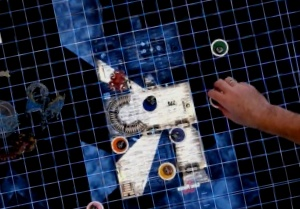blue: (139, 93, 161, 112)
green: (208, 35, 234, 60)
orange: (109, 133, 132, 155)
pink: (80, 197, 107, 209)
red: (207, 86, 228, 108)
violet: (166, 123, 188, 145)
yellow: (152, 156, 181, 185)
